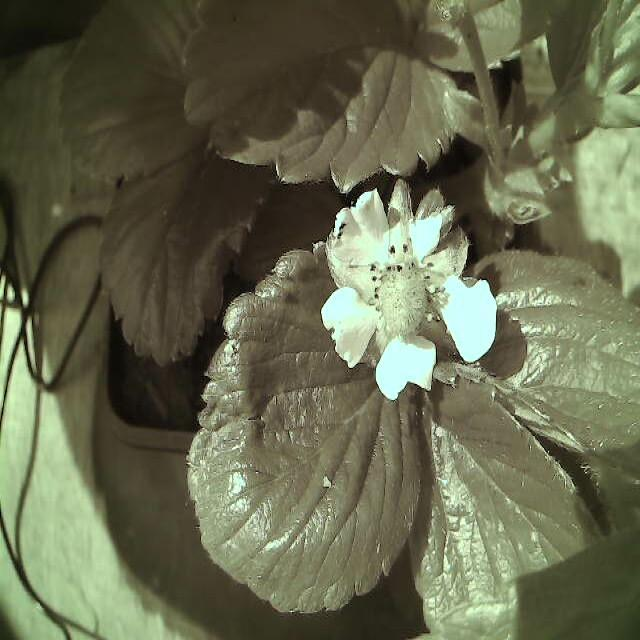flower: (316, 182, 506, 408)
